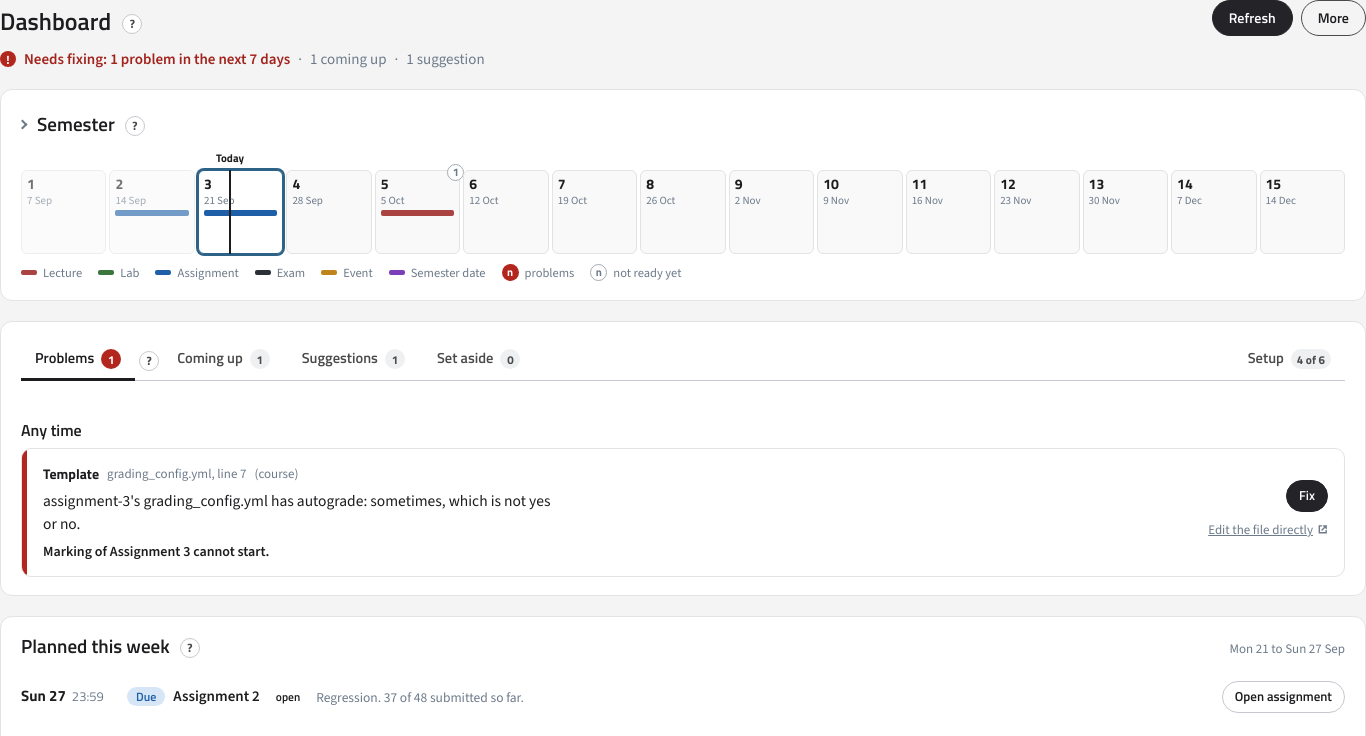
Test: the semester dashboard’s circle (an un-migrated course) › refuses the write with the course dashboard’s message
The image size is (1366, 736).
Step 1. Click the tab "Suggestions 1" → point(353, 361), box 288,340 -> 419,381
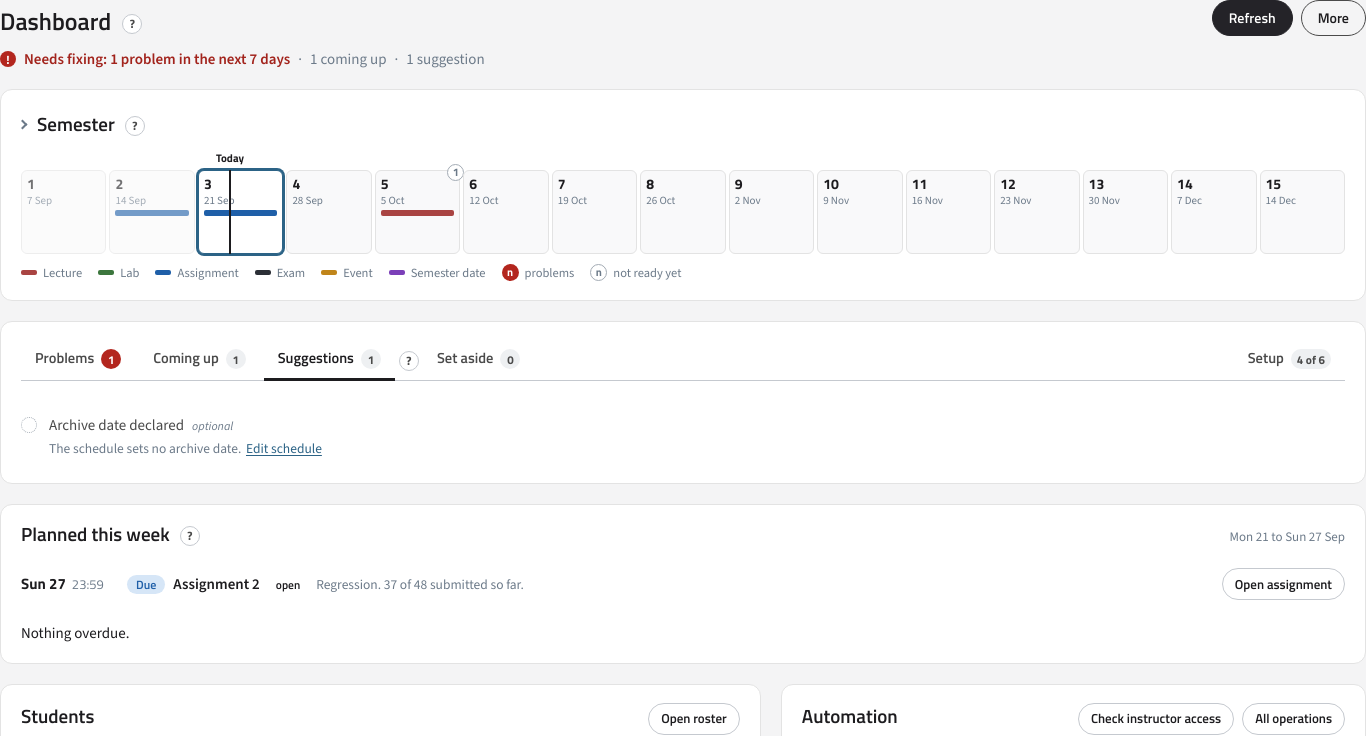
Step 2. Click the button with class "s-circle" → point(29, 425), box 21,417 -> 37,433
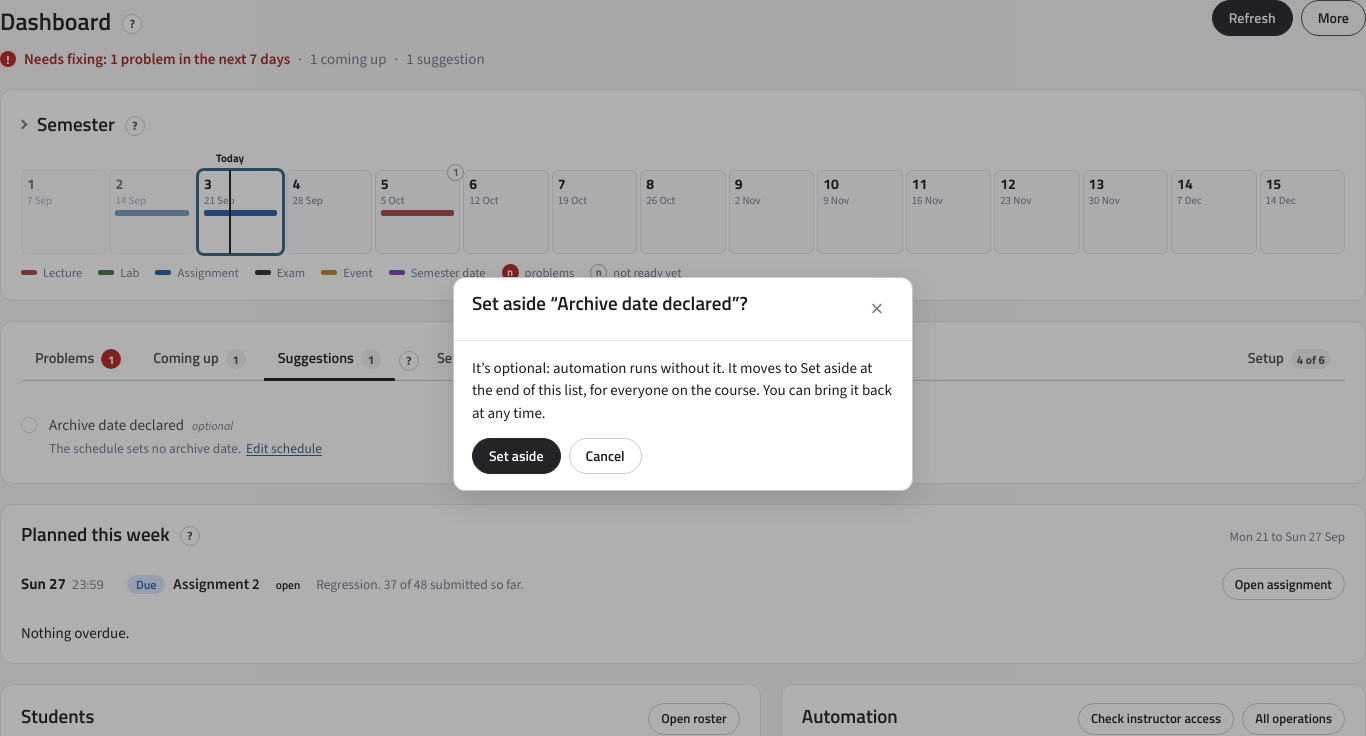
Step 3. Click the button "Set aside" → point(516, 456), box 472,438 -> 560,474
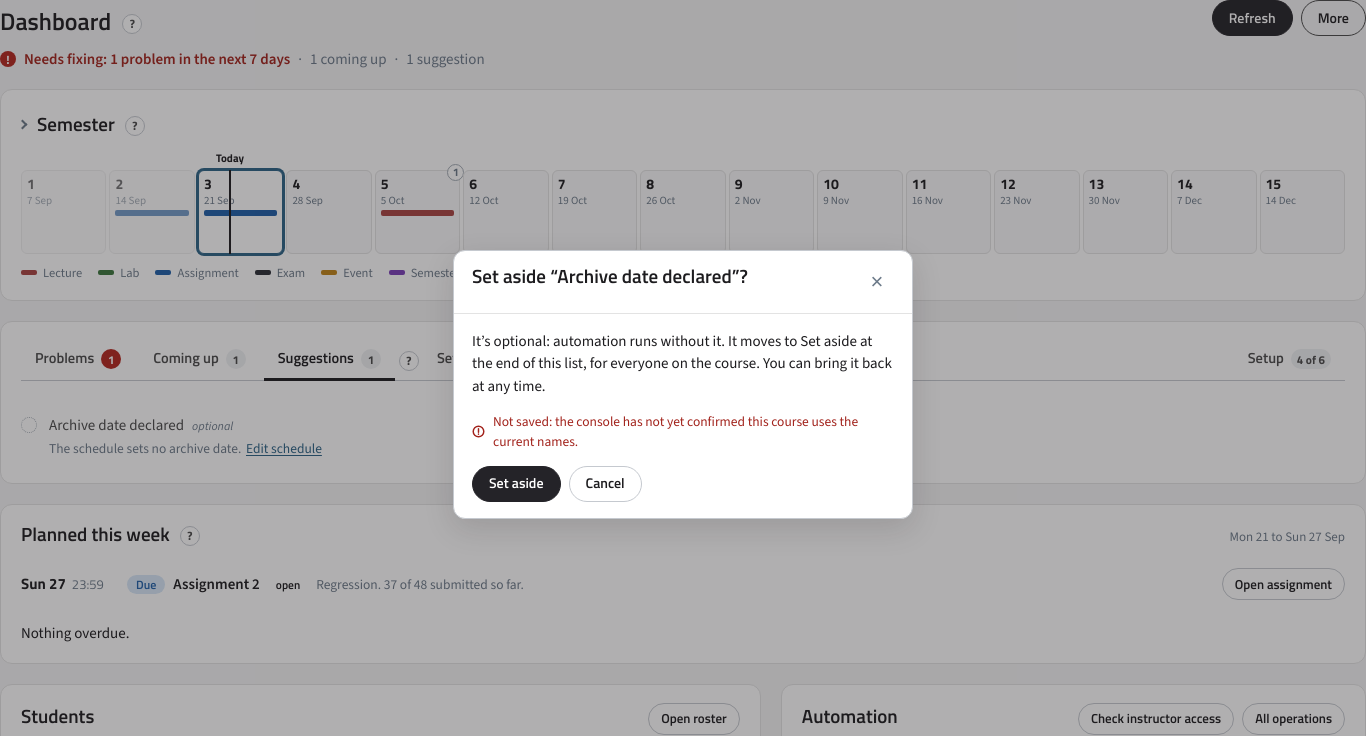
Now the text "Not saved: the console has not yet confirmed this course uses the current names." is shown, box 493,411 -> 894,452
